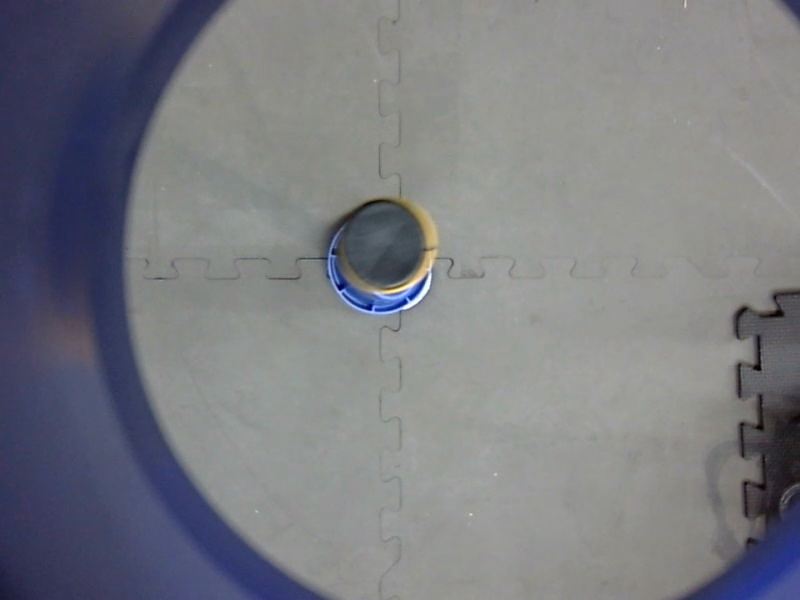tip: (333, 191, 443, 302)
